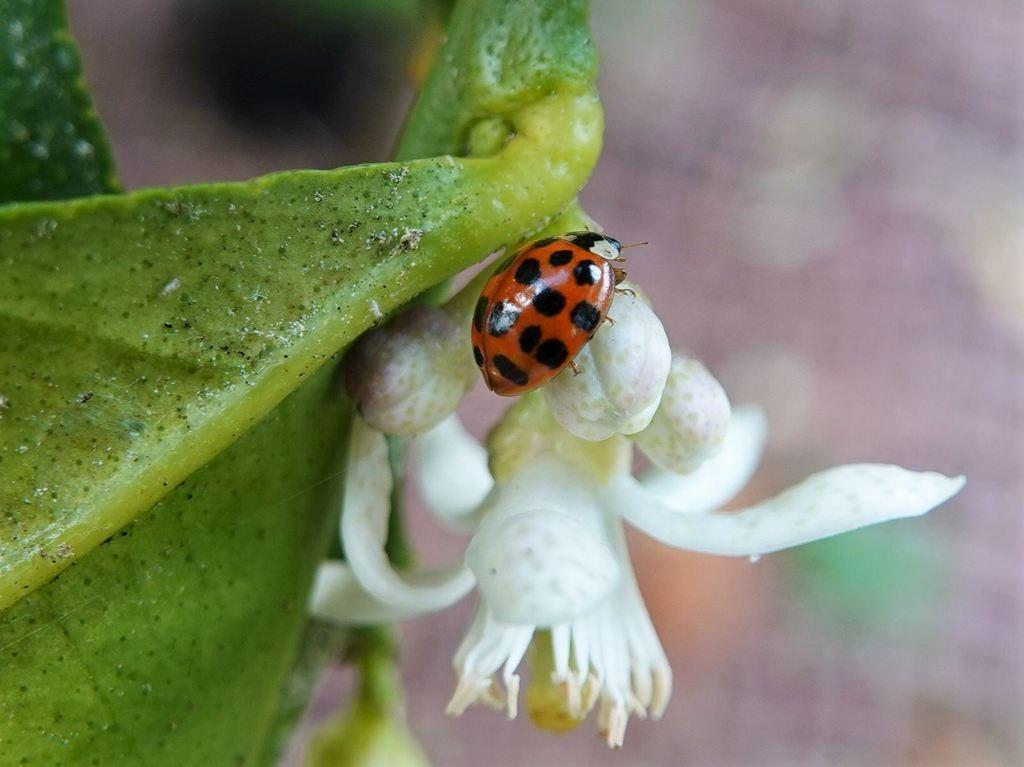ladybug: (469, 221, 653, 399)
